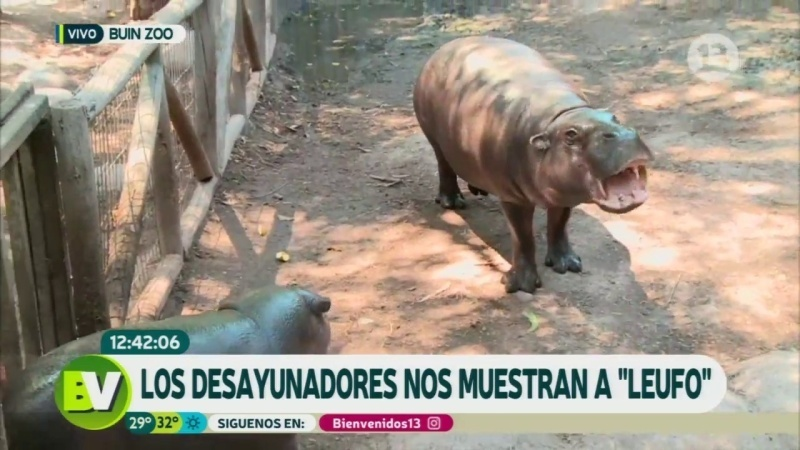hipopotamo: (402, 34, 656, 299)
